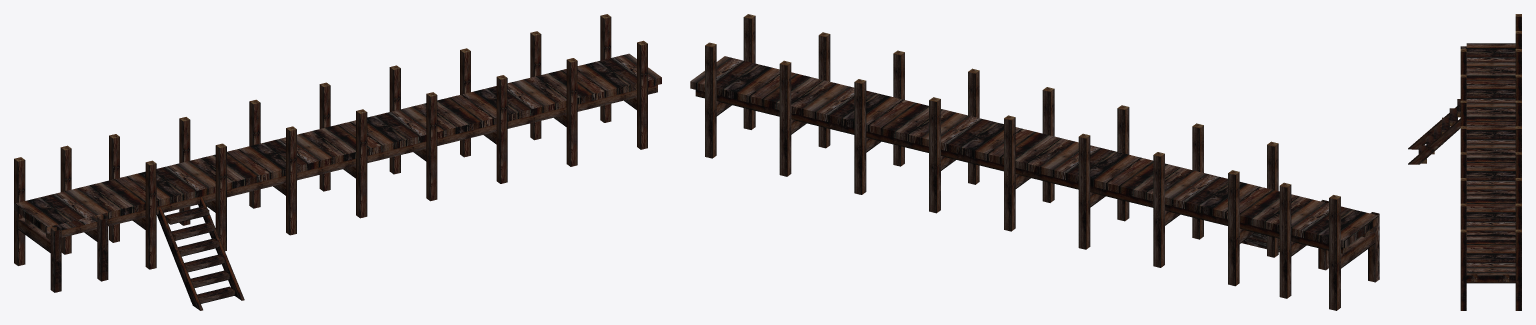
Rendered from bridge.glb.
The picture shows the model from 3 angles, left to right: view 1: azimuth 30°, elevation 25°; view 2: azimuth 150°, elevation 25°; view 3: azimuth 270°, elevation 25°; orthographic projection. The views are drawn at different scales.
Parts seen in each view (by area): view 1: Cube.112, Cube.108, Cube.111, Cube.126, Cube.107, Cube.106, Cube.127, Cube.128; view 2: Cube.112, Cube.108, Cube.110, Cube.107, Cube.106; view 3: Cube.112, Cube.108, Cube.126, Cube.128, Cube.127, Cube.107, Cube.106.
Part boxes in pixels (x1,y1,x2,y2): Cube.112: (14, 53, 661, 233); Cube.108: (109, 14, 647, 269); Cube.111: (46, 85, 657, 240); Cube.126: (165, 206, 234, 303); Cube.107: (14, 157, 61, 292); Cube.106: (60, 145, 108, 281); Cube.127: (157, 207, 202, 310); Cube.128: (198, 197, 244, 300); Cube.112: (690, 56, 1379, 247); Cube.108: (705, 14, 1278, 286); Cube.110: (695, 90, 1347, 253); Cube.107: (1329, 195, 1379, 310); Cube.106: (1279, 182, 1328, 298); Cube.112: (1466, 43, 1515, 274); Cube.108: (1460, 49, 1521, 310); Cube.126: (1418, 99, 1460, 163); Cube.128: (1408, 118, 1460, 164); Cube.127: (1408, 106, 1457, 149); Cube.107: (1460, 14, 1521, 48); Cube.106: (1515, 31, 1521, 48).
Bounding box in the file's own units: 35.7 × 6.9 × 7.58.
Materials: 4 (4 with a texture image).
